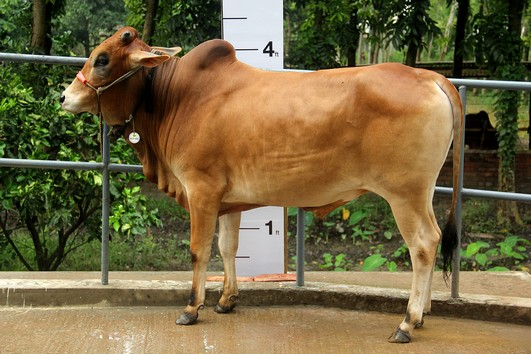cow: (55, 22, 472, 345)
